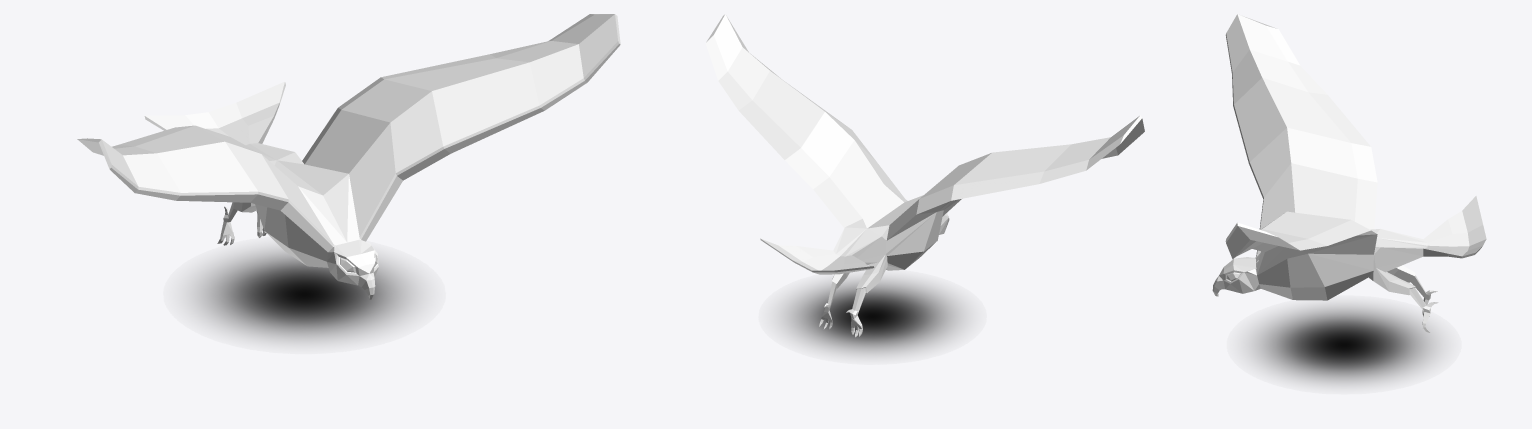
The model's file is bird_in_flight.glb.
The picture shows the model from 3 angles, left to right: view 1: azimuth 30°, elevation 25°; view 2: azimuth 150°, elevation 25°; view 3: azimuth 270°, elevation 25°; orthographic projection. The views are drawn at different scales.
Visible parts, largest first — view 1: Cube, shadow; view 2: Cube, shadow; view 3: Cube, shadow.
Part boxes in pixels (<box>): Cube: <box>77,14,620,299</box>; shadow: <box>193,248,415,341</box>; Cube: <box>705,14,1144,337</box>; shadow: <box>783,279,962,354</box>; Cube: <box>1212,14,1486,332</box>; shadow: <box>1251,306,1436,383</box>.
Size of the model in its own units: 15.34 by 7.55 by 10.6.
Materials: 2 (1 with a texture image).
